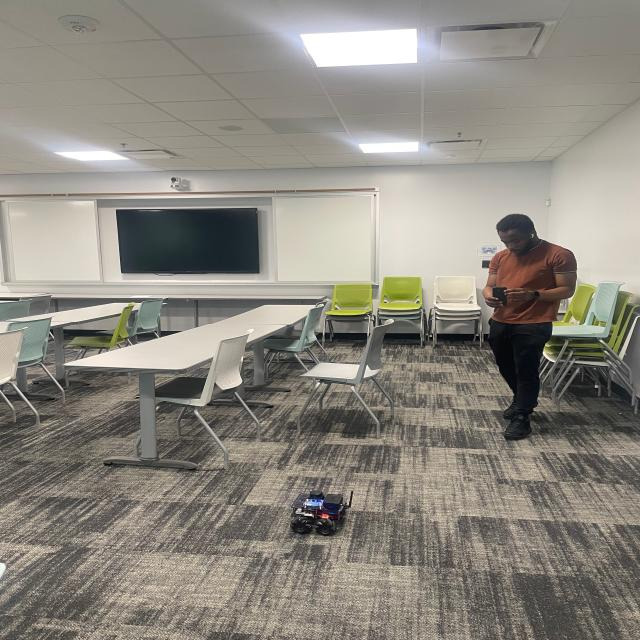ArduinoCar: (288, 487, 354, 537)
